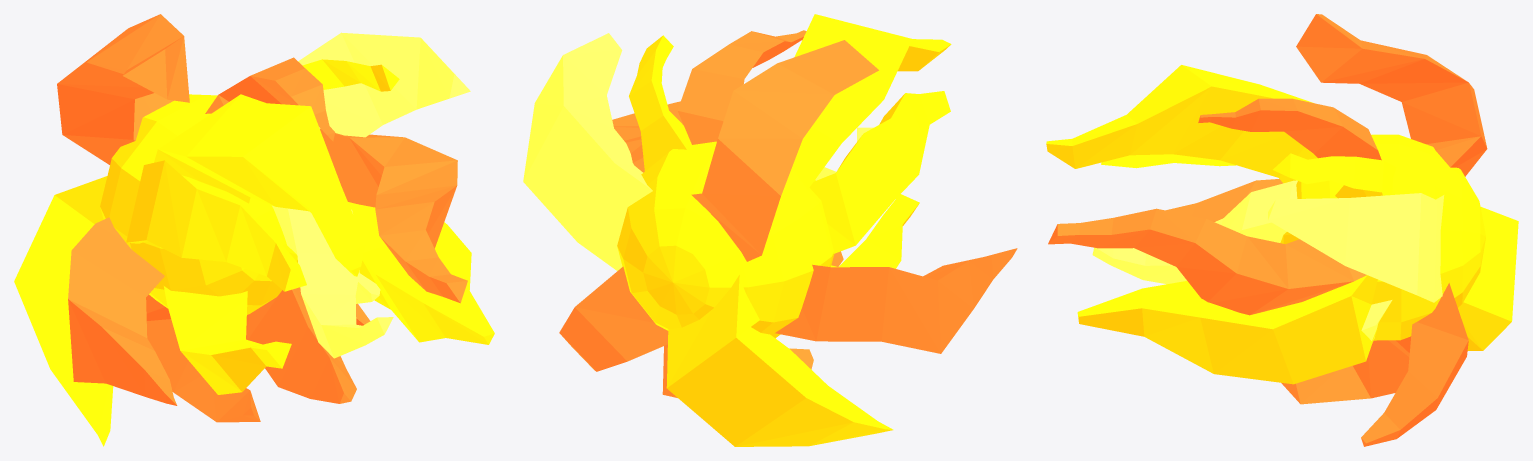
The model's file is fire-1.glb.
3 views of the same model, side by side, from view 1: azimuth 30°, elevation 25°; view 2: azimuth 150°, elevation 25°; view 3: azimuth 270°, elevation 25° (orthographic). The views are drawn at different scales.
Size of the model in its own units: 0.9147 by 0.8429 by 1.02.
